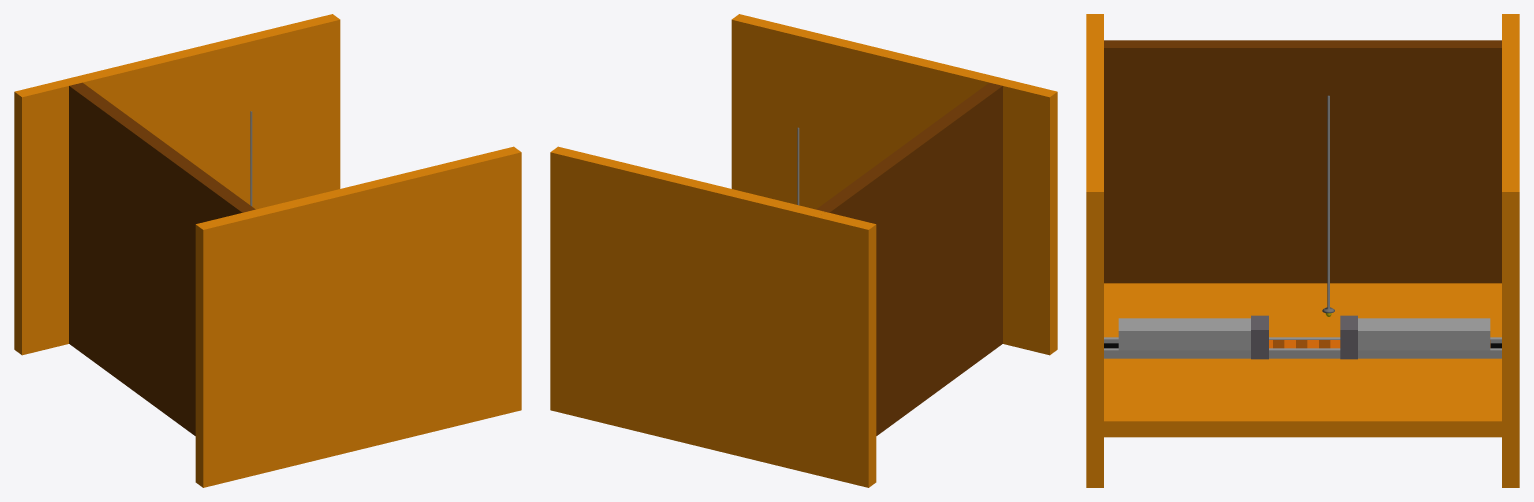
The model's file is shop_meny_stomp_box.glb.
3 renders of one model, left to right at view 1: azimuth 30°, elevation 25°; view 2: azimuth 150°, elevation 25°; view 3: azimuth 270°, elevation 25°, orthographic. The views are drawn at different scales.
Parts seen in each view (by area): view 1: Cube.004; view 2: Cube.004; view 3: Cube.004, Cube.005, Cube.006, Cylinder.004, Cube.
Part boxes in pixels (<box>): Cube.004: <box>14,14,521,487</box>; Cube.004: <box>550,14,1057,487</box>; Cube.004: <box>1086,14,1519,487</box>; Cube.005: <box>1340,315,1490,359</box>; Cube.006: <box>1118,315,1268,359</box>; Cylinder.004: <box>1322,95,1334,316</box>; Cube: <box>1269,340,1490,348</box>.
Size of the model in its own units: 47.44 by 37.28 by 48.76.
